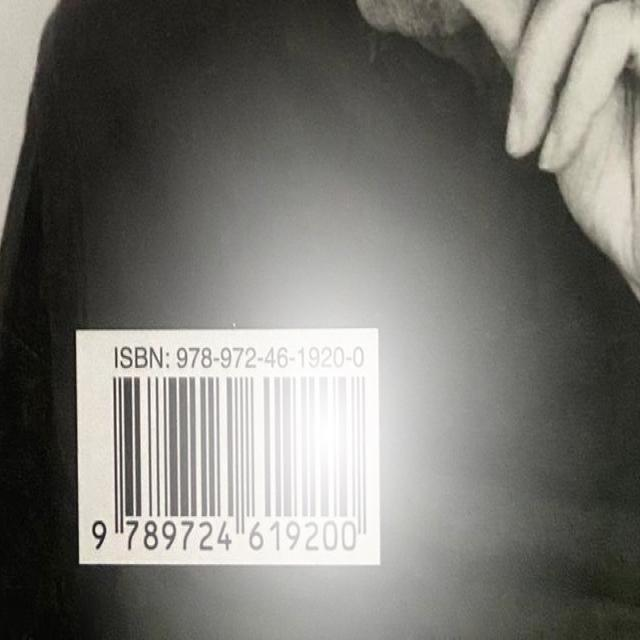Barcode: (110, 375, 366, 518)
